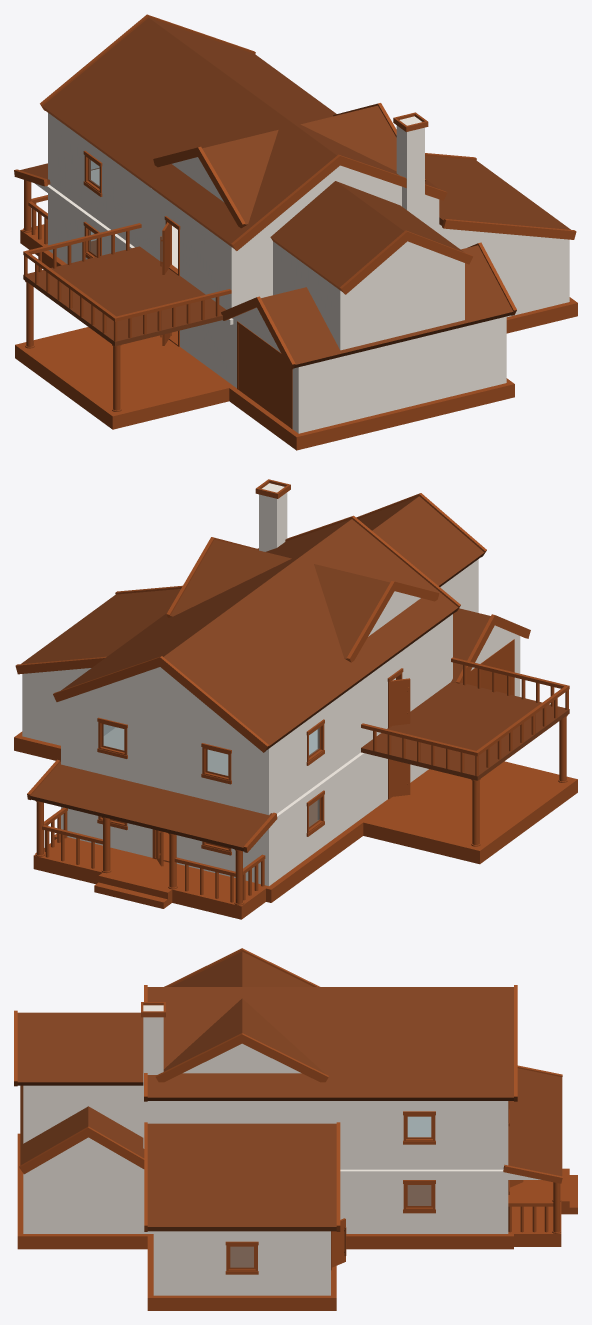
Rendered from Homepage.glb.
The picture shows the model from 3 angles, top to bottom: view 1: azimuth 30°, elevation 25°; view 2: azimuth 150°, elevation 25°; view 3: azimuth 270°, elevation 25°; orthographic projection. The views are drawn at different scales.
Visible parts, largest first — view 1: Spline (×12), Cube (×13), RightWall (×2), LeftWall, BackWall (×2), Roof Spline 2D, FrontWall, Extrusion Spline; view 2: Spline (×12), Cube (×15), FrontWall (×3), RightWall (×2), Roof, Roof Spline 2D, Door (×2), Extrusion Spline; view 3: Spline (×12), LeftWall (×3), Cube (×11), BackWall, Roof, Window (×3), Extrusion Spline, Door.
Part boxes in pixels (x1,y1,x2,y2): Spline (×12): (40,14,576,369); Cube (×13): (15,116,577,450); RightWall (×2): (50,114,229,382); LeftWall: (302,317,503,432); BackWall (×2): (229,197,569,316); Roof Spline 2D: (23,223,231,321); FrontWall: (231,319,301,433); Extrusion Spline: (49,169,177,268); Spline (×12): (15,493,530,825); Cube (×15): (14,483,577,919); FrontWall (×3): (22,673,270,885); RightWall (×2): (271,615,450,884); Roof: (30,761,272,851); Roof Spline 2D: (361,657,569,756); Door (×2): (390,678,410,796); Extrusion Spline: (103,727,360,813); Spline (×12): (17,948,562,1231); LeftWall (×3): (157,1101,504,1295); Cube (×11): (17,1005,561,1310); BackWall: (23,1169,153,1233); Roof: (503,1068,562,1176); Window (×3): (230,1116,431,1267); Extrusion Spline: (340,1116,504,1169); Door: (332,1218,345,1267).
Size of the model in its own units: 21.96 by 10.56 by 23.85.
